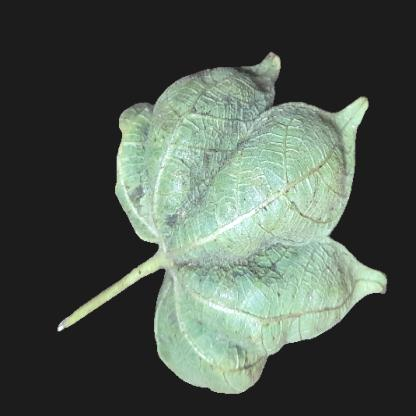curl_stage2: (263, 136, 319, 238), (183, 291, 235, 381), (247, 288, 325, 348), (181, 210, 260, 258), (142, 141, 190, 197), (182, 79, 238, 125)
sooty: (190, 128, 243, 210)
